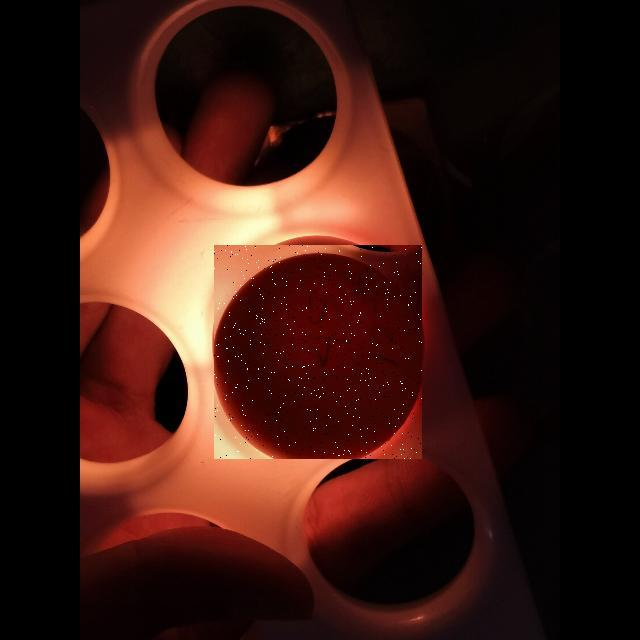B - Fair: (214, 245, 422, 459)
